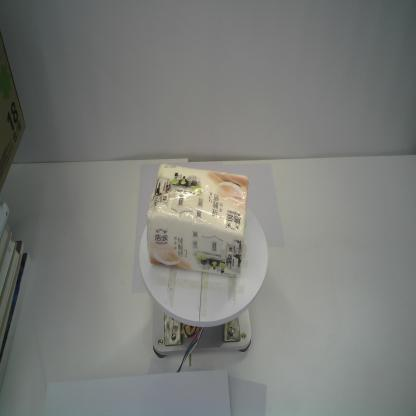Tissue: (146, 163, 248, 278)
